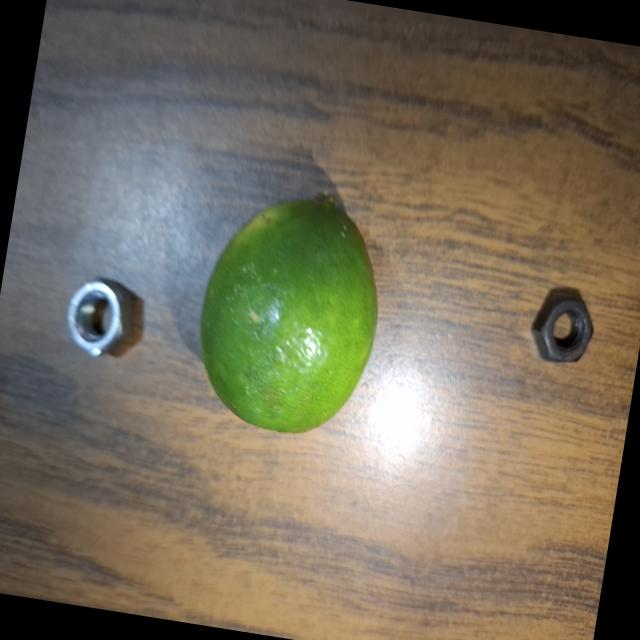limon: (168, 168, 414, 454)
milimetrico: (512, 272, 608, 379)
tuerca: (39, 245, 150, 396)
